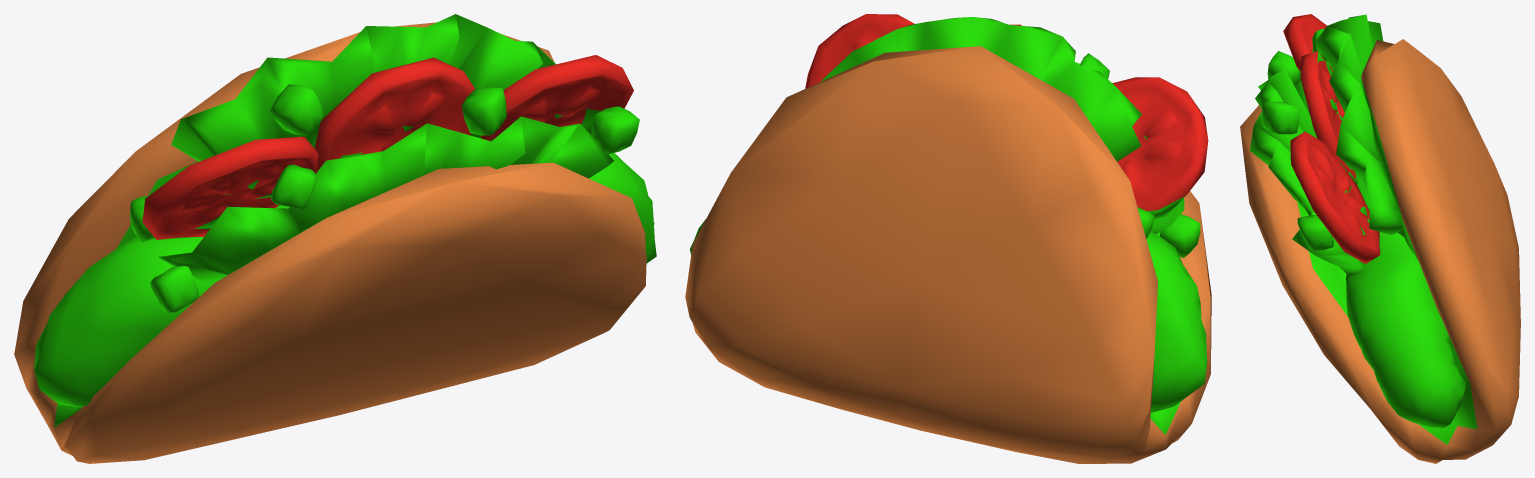
Rendered from Sandwitch.fbx.
3 renders of one model, left to right at view 1: azimuth 30°, elevation 25°; view 2: azimuth 150°, elevation 25°; view 3: azimuth 270°, elevation 25°, orthographic. The views are drawn at different scales.
Visible parts, largest first — view 1: taco; view 2: taco; view 3: taco.
Part boxes in pixels (x1,y1,x2,y2): taco: (14, 14, 656, 463); taco: (685, 14, 1211, 463); taco: (1240, 14, 1520, 463).
Bounding box in the file's own units: 184 × 125 × 93.04.
